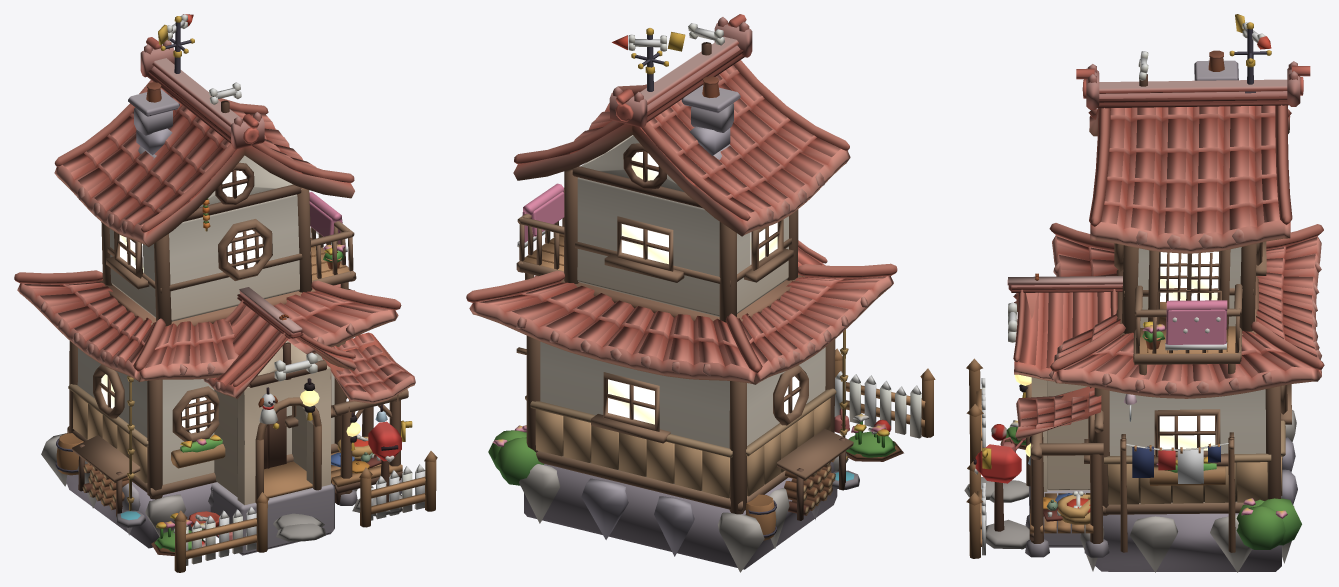
The model's file is chewyHouse-3.glb.
3 views of the same model, side by side, from view 1: azimuth 30°, elevation 25°; view 2: azimuth 150°, elevation 25°; view 3: azimuth 270°, elevation 25° (orthographic). The views are drawn at different scales.
Parts seen in each view (by area): view 1: chewyHouse, window_glow; view 2: chewyHouse, window_glow; view 3: chewyHouse, window_glow.
Boxes of the visible parts, x1,y1,x2,y2 form: chewyHouse: (14, 14, 437, 572); window_glow: (101, 170, 360, 436); chewyHouse: (466, 14, 935, 572); window_glow: (608, 152, 799, 424); chewyHouse: (964, 14, 1324, 572); window_glow: (1014, 251, 1218, 456).
Size of the model in its own units: 3.13 by 5.08 by 3.33.
